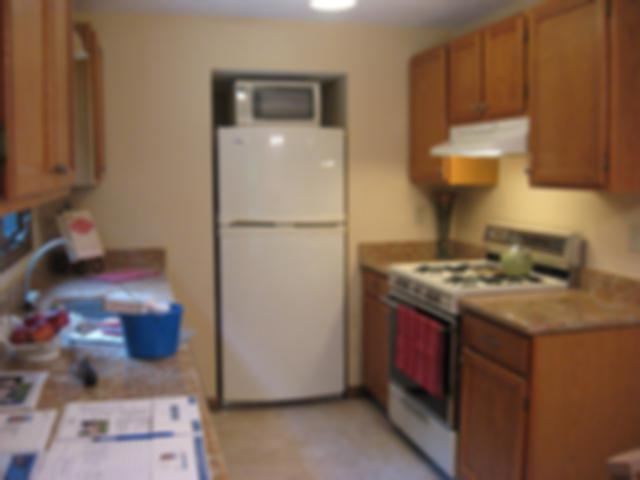Lavaplatos: (21, 234, 182, 334)
